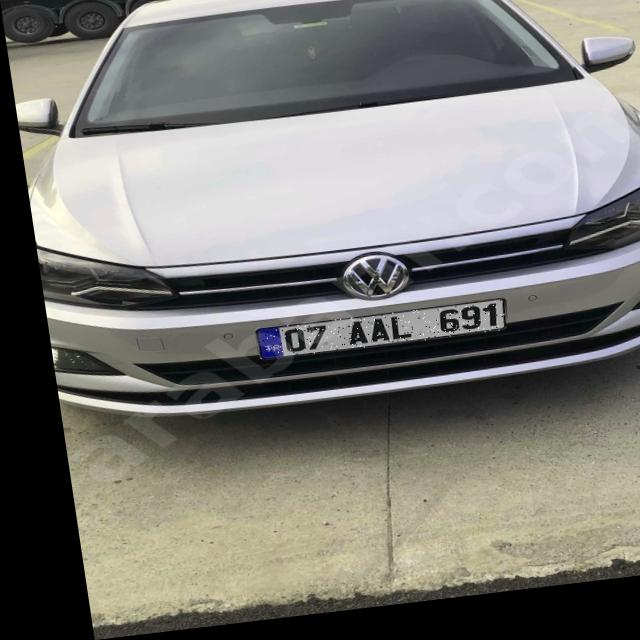license_plate: (245, 311, 495, 365)
